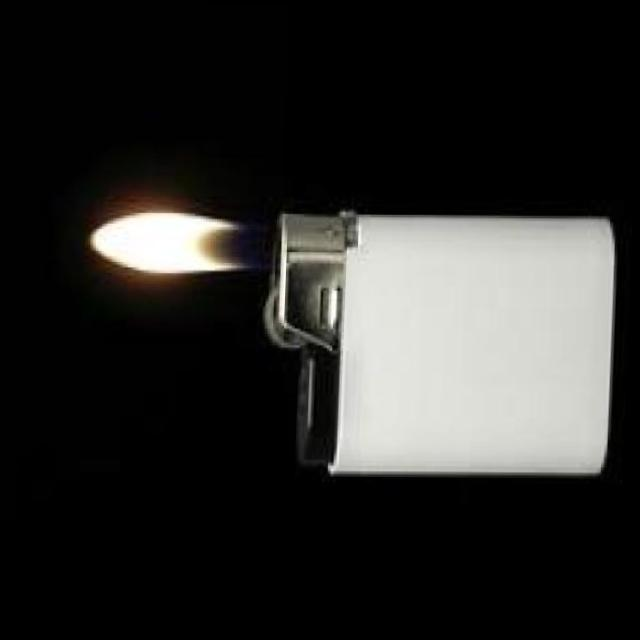Fire: (90, 208, 248, 272)
